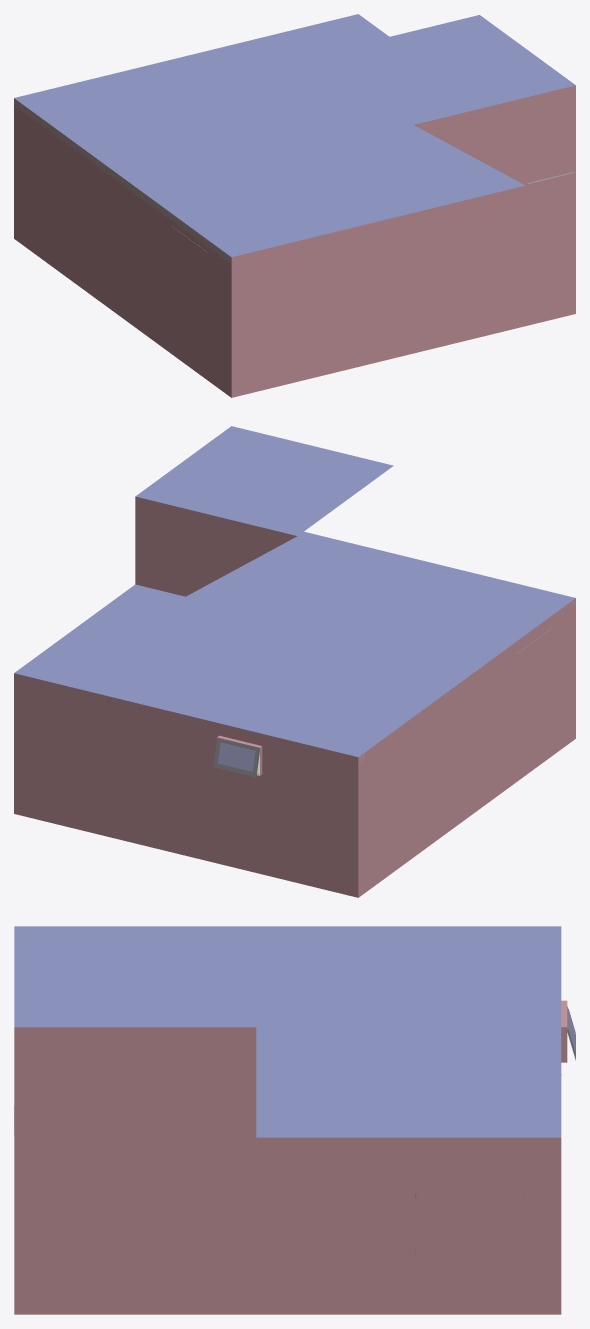
The model's file is Basement.fbx.
3 views of the same model, one above another, from view 1: azimuth 30°, elevation 25°; view 2: azimuth 150°, elevation 25°; view 3: azimuth 270°, elevation 25° (orthographic). The views are drawn at different scales.
Parts seen in each view (by area): view 1: Basement, Beams; view 2: Basement, Window; view 3: Basement.
Part boxes in pixels (x1,y1,x2,y2): Basement: (14, 14, 575, 397); Beams: (14, 98, 231, 264); Basement: (14, 426, 575, 897); Window: (213, 737, 259, 777); Basement: (14, 926, 567, 1314).
Size of the model in its own units: 12.31 by 7.81 by 13.82.
